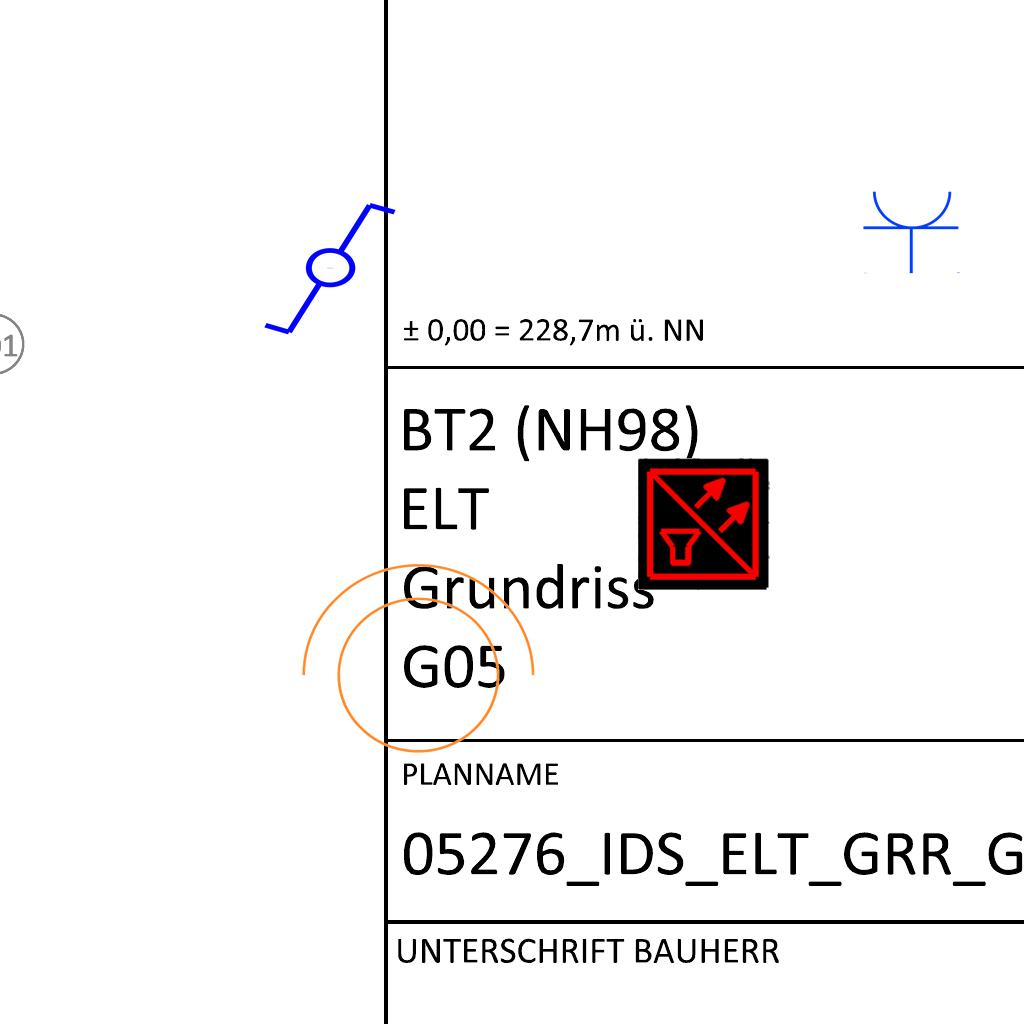OKW_Multisensormelder_(Kombination_optischer_Rauch-Kahlenmonoxid_Waerme-Melder): (638, 458, 770, 590)
Scheinwerfer_fuer_Alarmbeleuchtung: (280, 553, 544, 778)
Schukosteckdose_einfach: (862, 187, 962, 274)
Wechselschalter: (260, 198, 417, 342)
